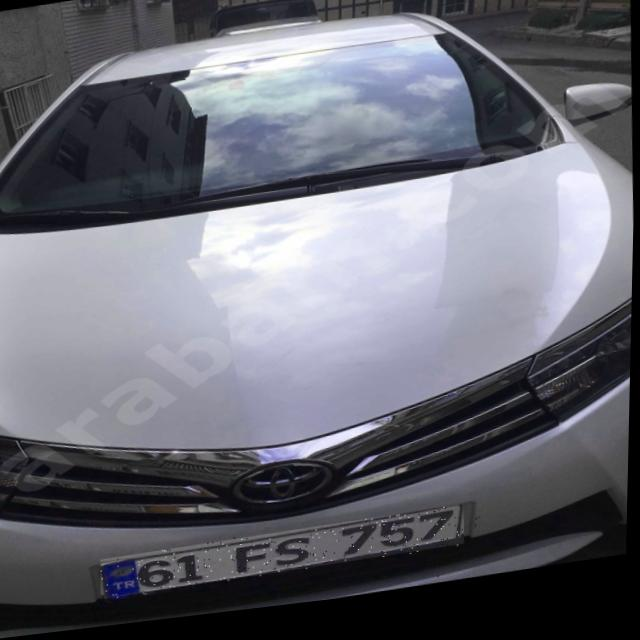license_plate: (102, 515, 467, 604)
